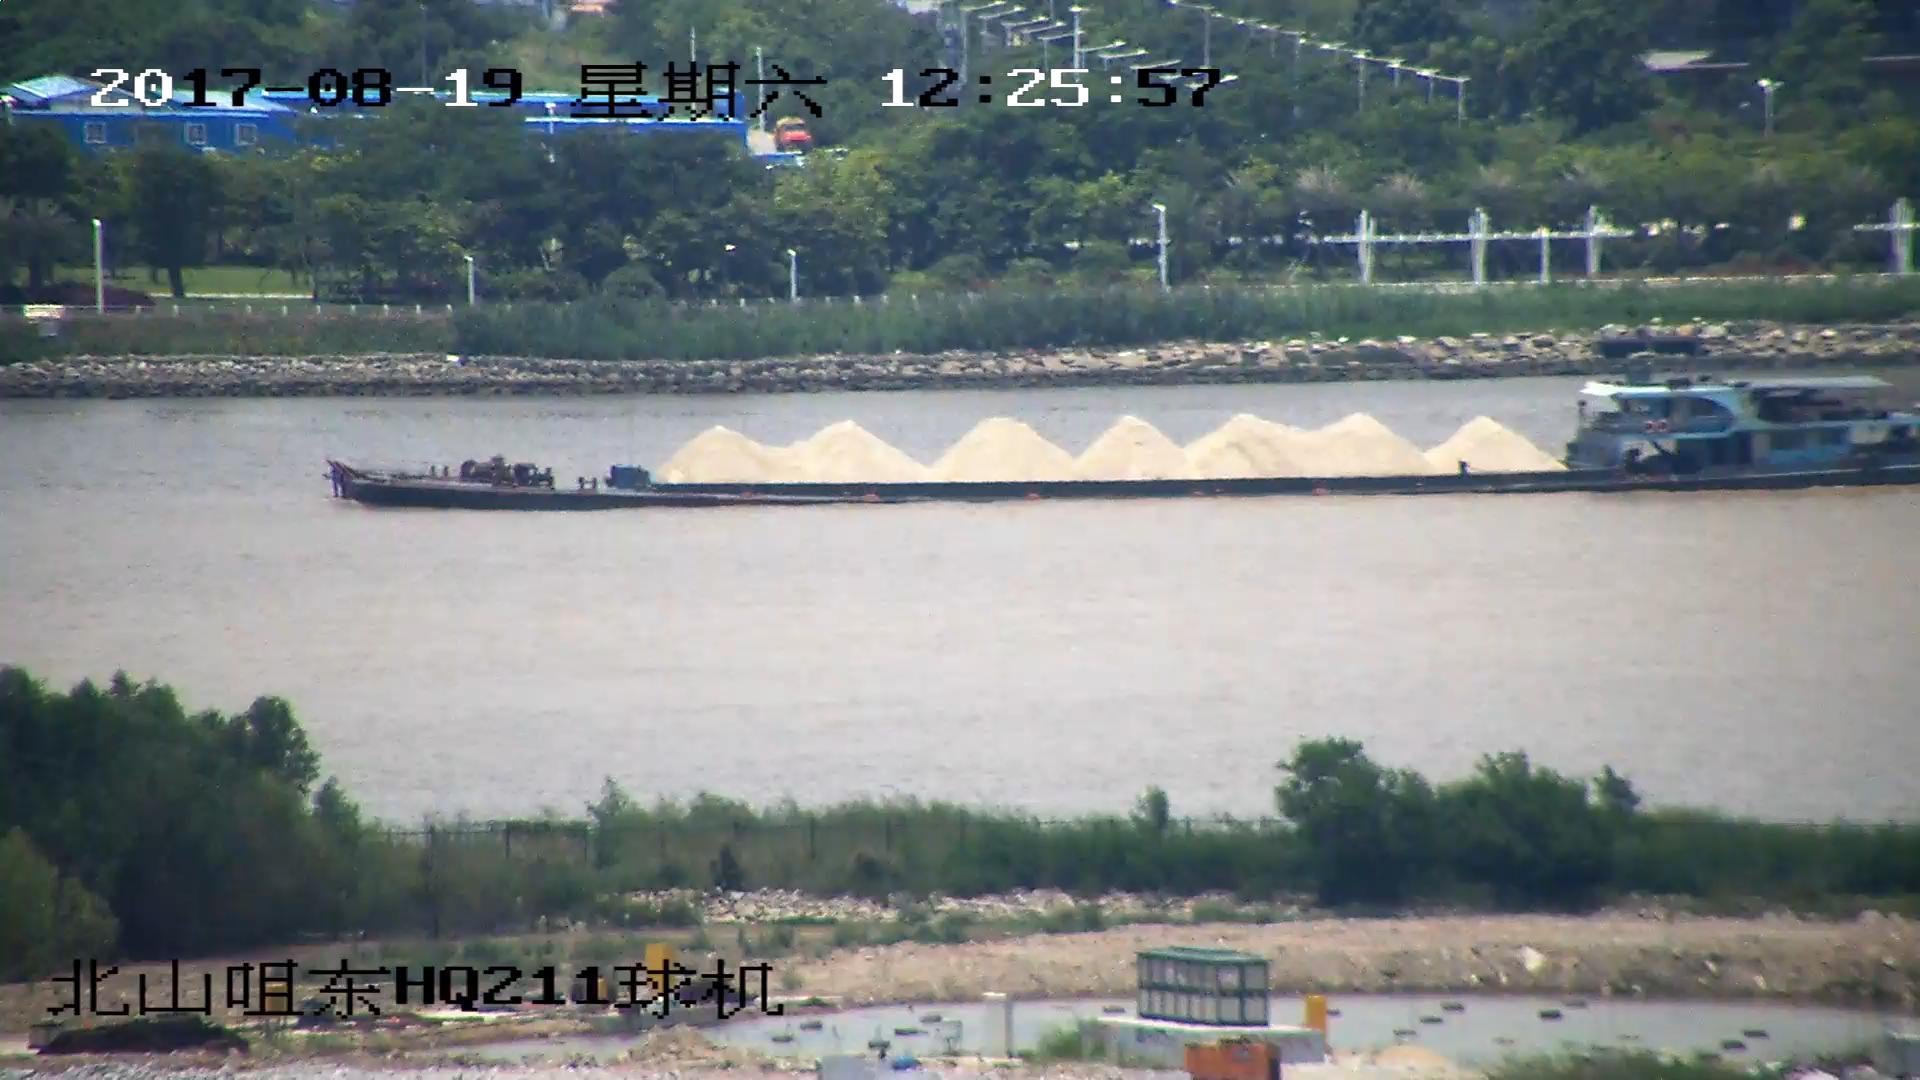Ship: (328, 367, 1920, 512)
